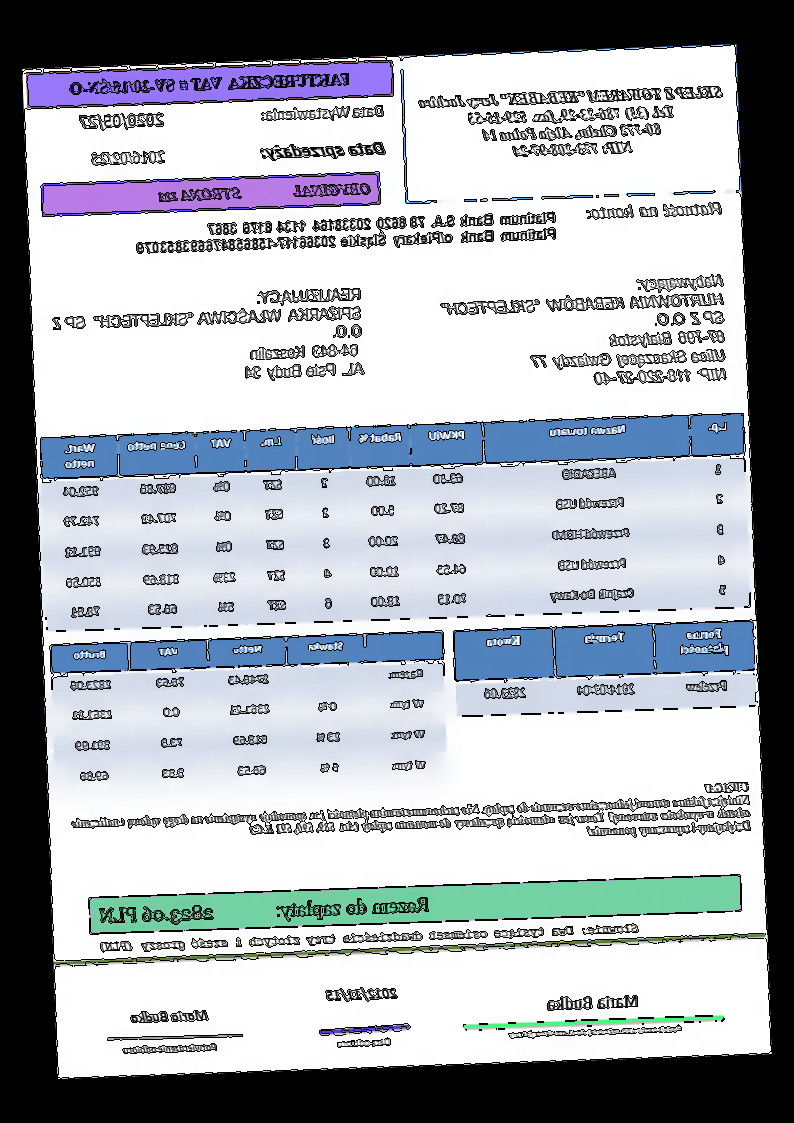Table: (39, 410, 753, 635), (49, 629, 452, 798), (451, 618, 758, 718)
TextBox: (69, 777, 753, 859), (437, 270, 728, 392), (48, 285, 367, 388), (417, 80, 728, 167), (131, 208, 558, 260), (99, 920, 643, 955), (97, 890, 435, 932), (63, 66, 352, 101), (155, 179, 374, 206), (586, 198, 724, 222), (504, 1022, 685, 1040), (259, 101, 389, 124), (258, 141, 388, 162), (76, 108, 167, 134), (543, 991, 642, 1013), (120, 1039, 220, 1057), (127, 1007, 211, 1026), (89, 148, 167, 167), (323, 984, 401, 1003), (333, 1034, 394, 1050)
